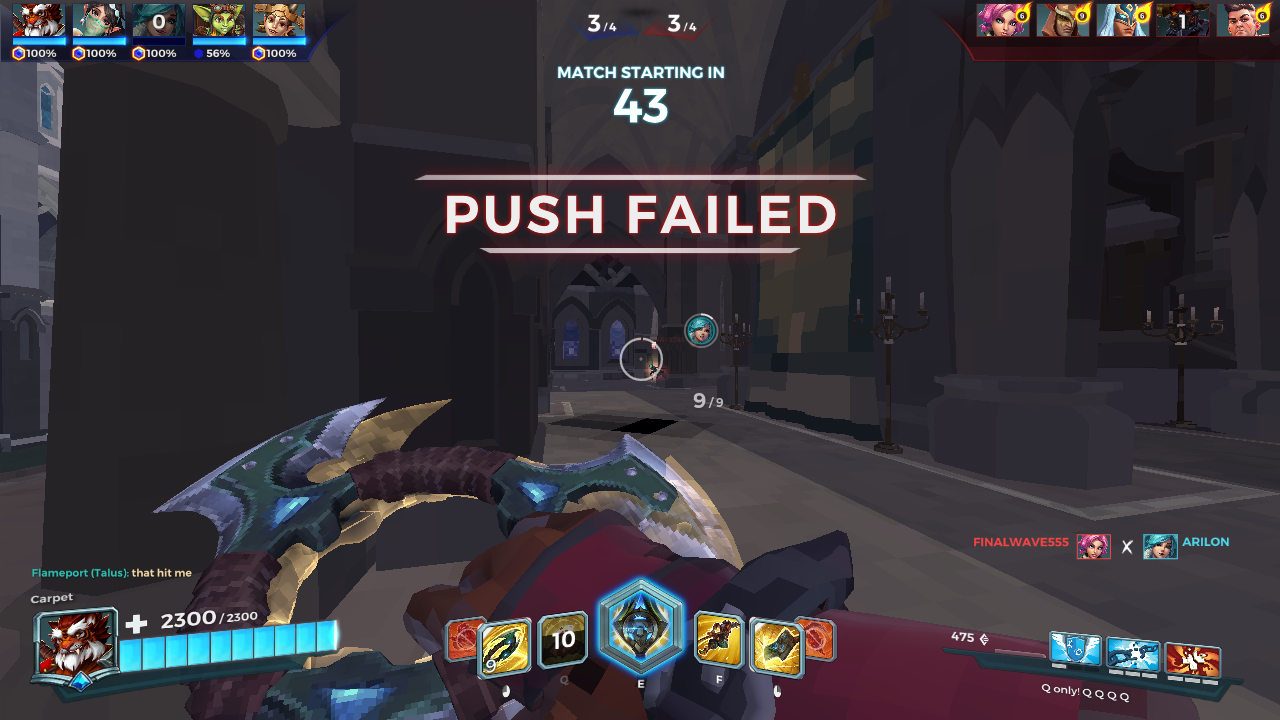model: (644, 358, 666, 382)
